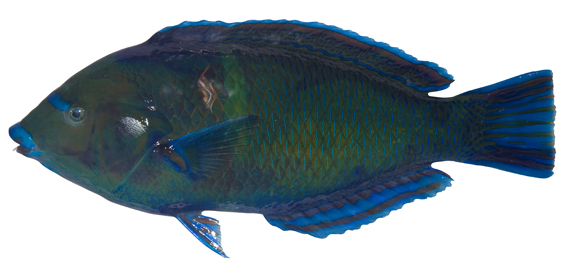fish: (10, 19, 557, 257)
